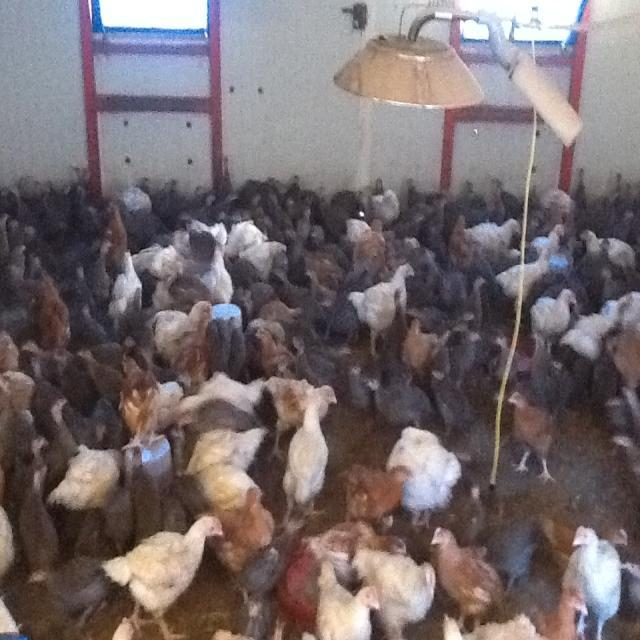poussin: (96, 513, 227, 637), (384, 423, 470, 532), (505, 388, 570, 502), (430, 526, 504, 624), (205, 488, 270, 586), (199, 421, 270, 509), (364, 558, 436, 640), (109, 351, 162, 462), (51, 445, 126, 520), (313, 556, 377, 640), (357, 259, 418, 345), (28, 558, 106, 624), (296, 391, 340, 504), (576, 524, 618, 634), (350, 453, 410, 526), (367, 372, 438, 430), (487, 512, 540, 589), (132, 442, 169, 550), (144, 301, 216, 355), (268, 376, 336, 428), (606, 388, 640, 491), (529, 291, 584, 350), (487, 256, 545, 310), (22, 344, 74, 402), (24, 464, 52, 568), (62, 390, 114, 446), (581, 220, 635, 273), (234, 585, 286, 640), (315, 280, 358, 346), (147, 383, 207, 430), (429, 370, 471, 435), (204, 372, 271, 412), (204, 311, 246, 372), (466, 216, 522, 260), (605, 326, 640, 396), (0, 366, 37, 432), (248, 534, 287, 596), (252, 293, 304, 338), (540, 594, 590, 640), (255, 324, 302, 372), (112, 250, 144, 320), (489, 328, 524, 390), (400, 204, 447, 250), (552, 350, 587, 410), (590, 227, 618, 300), (406, 234, 436, 302), (448, 330, 485, 384), (78, 346, 112, 403), (223, 216, 269, 258), (402, 326, 439, 378), (28, 169, 64, 222), (155, 181, 199, 224), (353, 229, 392, 277), (462, 273, 488, 344), (103, 199, 131, 264), (528, 324, 554, 394), (406, 300, 456, 336), (308, 262, 338, 321), (136, 240, 182, 278), (373, 178, 404, 232), (246, 236, 297, 268), (265, 188, 291, 248), (237, 272, 275, 312), (342, 362, 374, 409), (204, 250, 232, 303), (50, 388, 74, 448), (44, 291, 68, 351), (294, 346, 334, 382), (277, 265, 307, 312), (406, 176, 438, 220), (86, 232, 112, 286), (540, 186, 582, 219), (194, 216, 238, 246), (335, 186, 373, 220), (0, 205, 27, 252), (5, 170, 36, 210), (533, 224, 568, 259), (30, 424, 56, 471), (619, 555, 640, 613), (291, 168, 321, 208), (66, 163, 95, 204), (167, 220, 194, 264), (608, 164, 630, 218), (124, 183, 154, 220), (105, 330, 144, 358), (0, 243, 25, 286), (81, 292, 107, 333), (0, 328, 26, 367), (454, 173, 480, 212), (488, 179, 509, 226), (58, 214, 78, 262), (296, 203, 316, 248), (309, 219, 332, 257), (15, 226, 40, 258), (72, 185, 90, 229), (574, 164, 590, 210), (242, 187, 266, 217), (219, 154, 235, 196), (348, 215, 368, 248), (23, 245, 39, 282), (215, 190, 240, 212), (74, 260, 85, 294), (197, 192, 214, 212), (284, 192, 295, 210)
